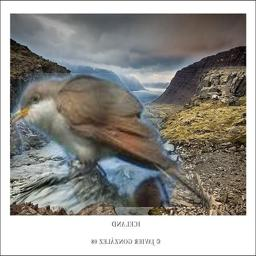Cuckoo: (11, 73, 212, 207)
